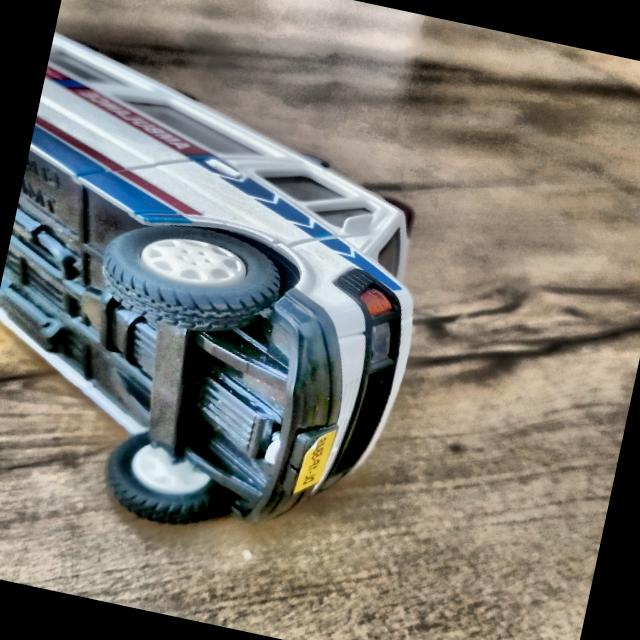Ambulance: (0, 32, 492, 576)
